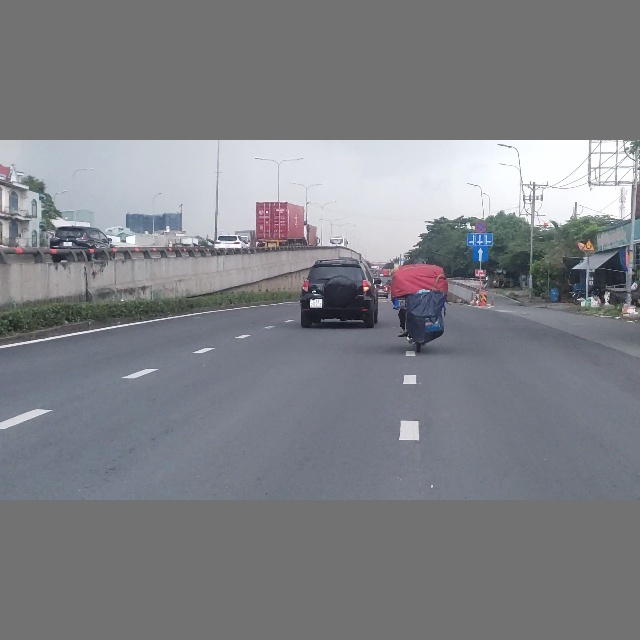I.407a: (473, 245, 488, 261)
P.130: (475, 221, 486, 233)
W.246a: (583, 239, 595, 251)
